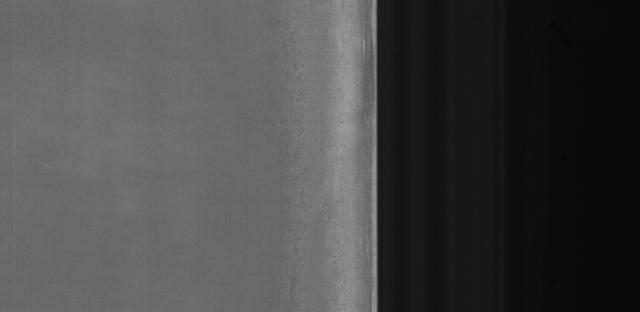silk_spot: (250, 46, 323, 201)
